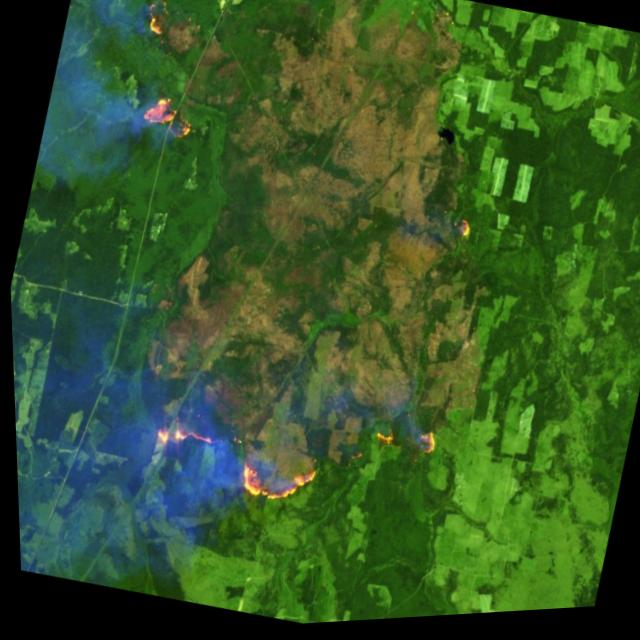fire: (131, 356, 445, 552), (113, 0, 225, 151), (444, 212, 475, 252)
